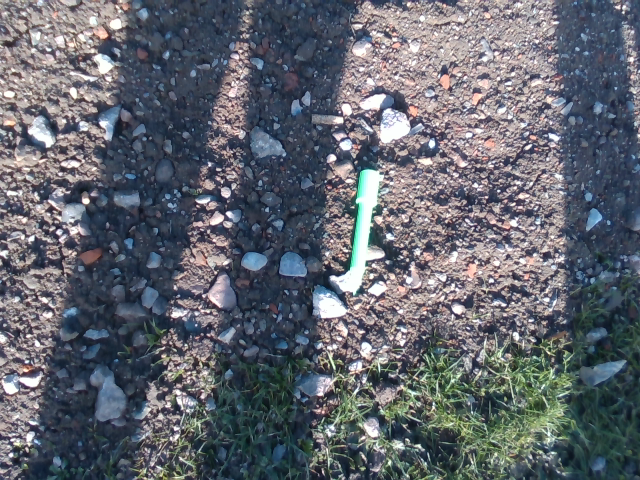Probe: (343, 163, 383, 287)
